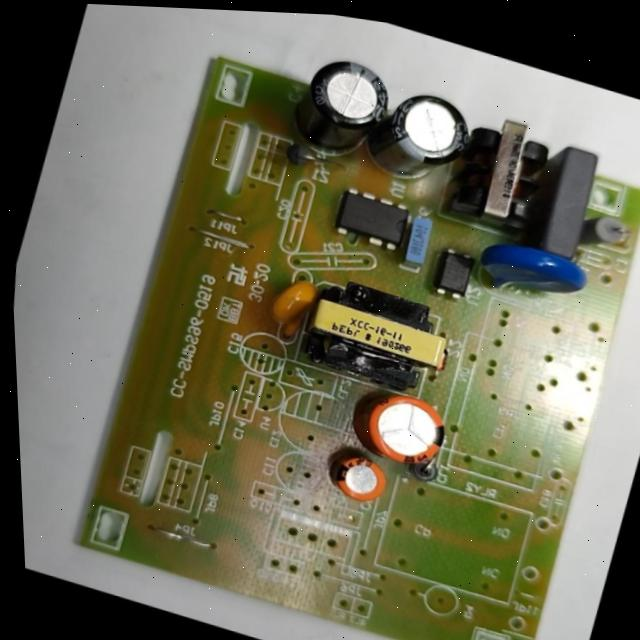Cap1: (353, 381, 461, 484)
Cap2: (323, 444, 397, 510)
Cap3: (363, 76, 486, 199)
Cap4: (283, 45, 403, 172)
MOSFET: (328, 182, 415, 255)
Mov: (468, 230, 598, 322)
Resistor: (574, 203, 635, 263)
Transformer: (292, 263, 466, 404), (440, 104, 563, 240)
